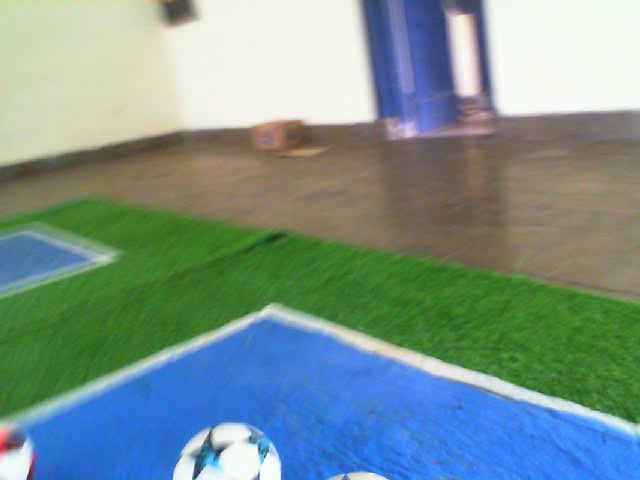ball: (169, 420, 284, 480), (1, 416, 38, 480)
